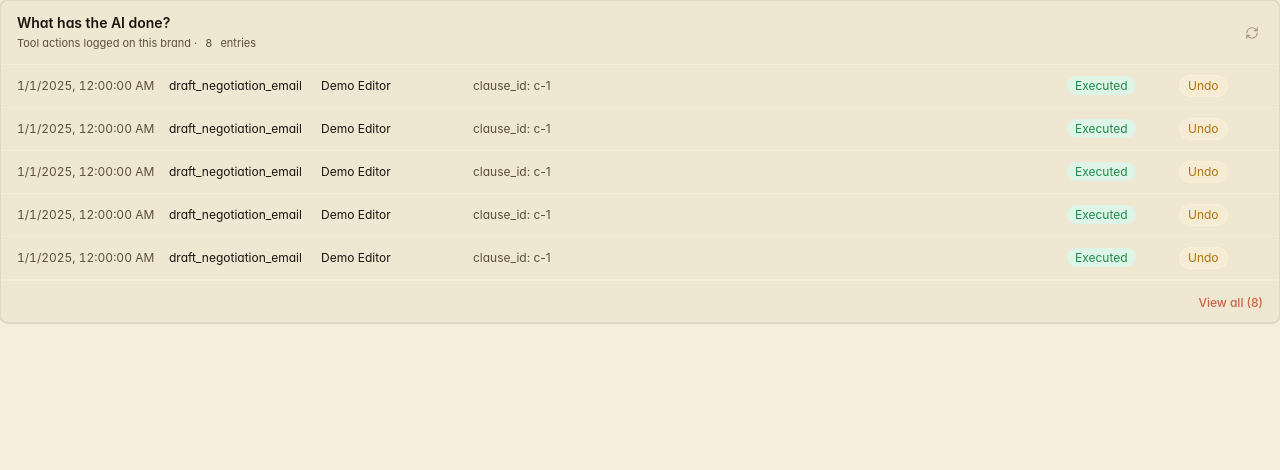
Test: AuditFeedPanel › collapses to top 5 by default and expands on "View all" click
Expected: the list item with test id "audit-row-audit-0" is shown, 1,65 -> 1279,108
Expected: the list item with test id "audit-row-audit-4" is shown, 1,237 -> 1279,280
Note: "View all (8)" link present.
What coordinates should you click on to do the following:
click the button "View all (8)"
I would click on:
 (1231, 303)
Its box is 1198,295 -> 1263,311.
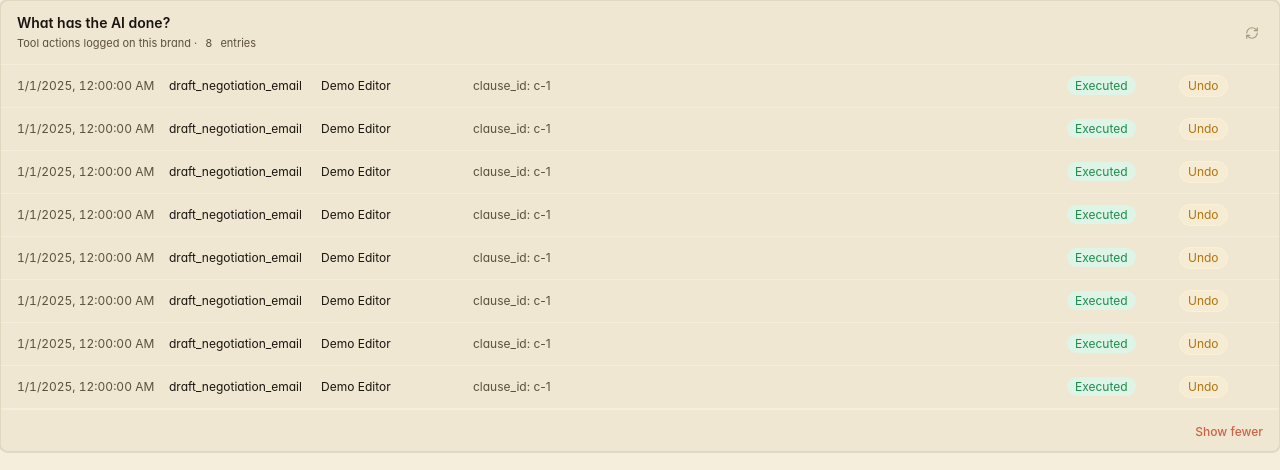
Result: the list item with test id "audit-row-audit-5" is shown at 1,280 -> 1279,323
Result: the list item with test id "audit-row-audit-7" is shown at 1,366 -> 1279,409
Result: the button "Show fewer" is shown at 1195,424 -> 1263,440
